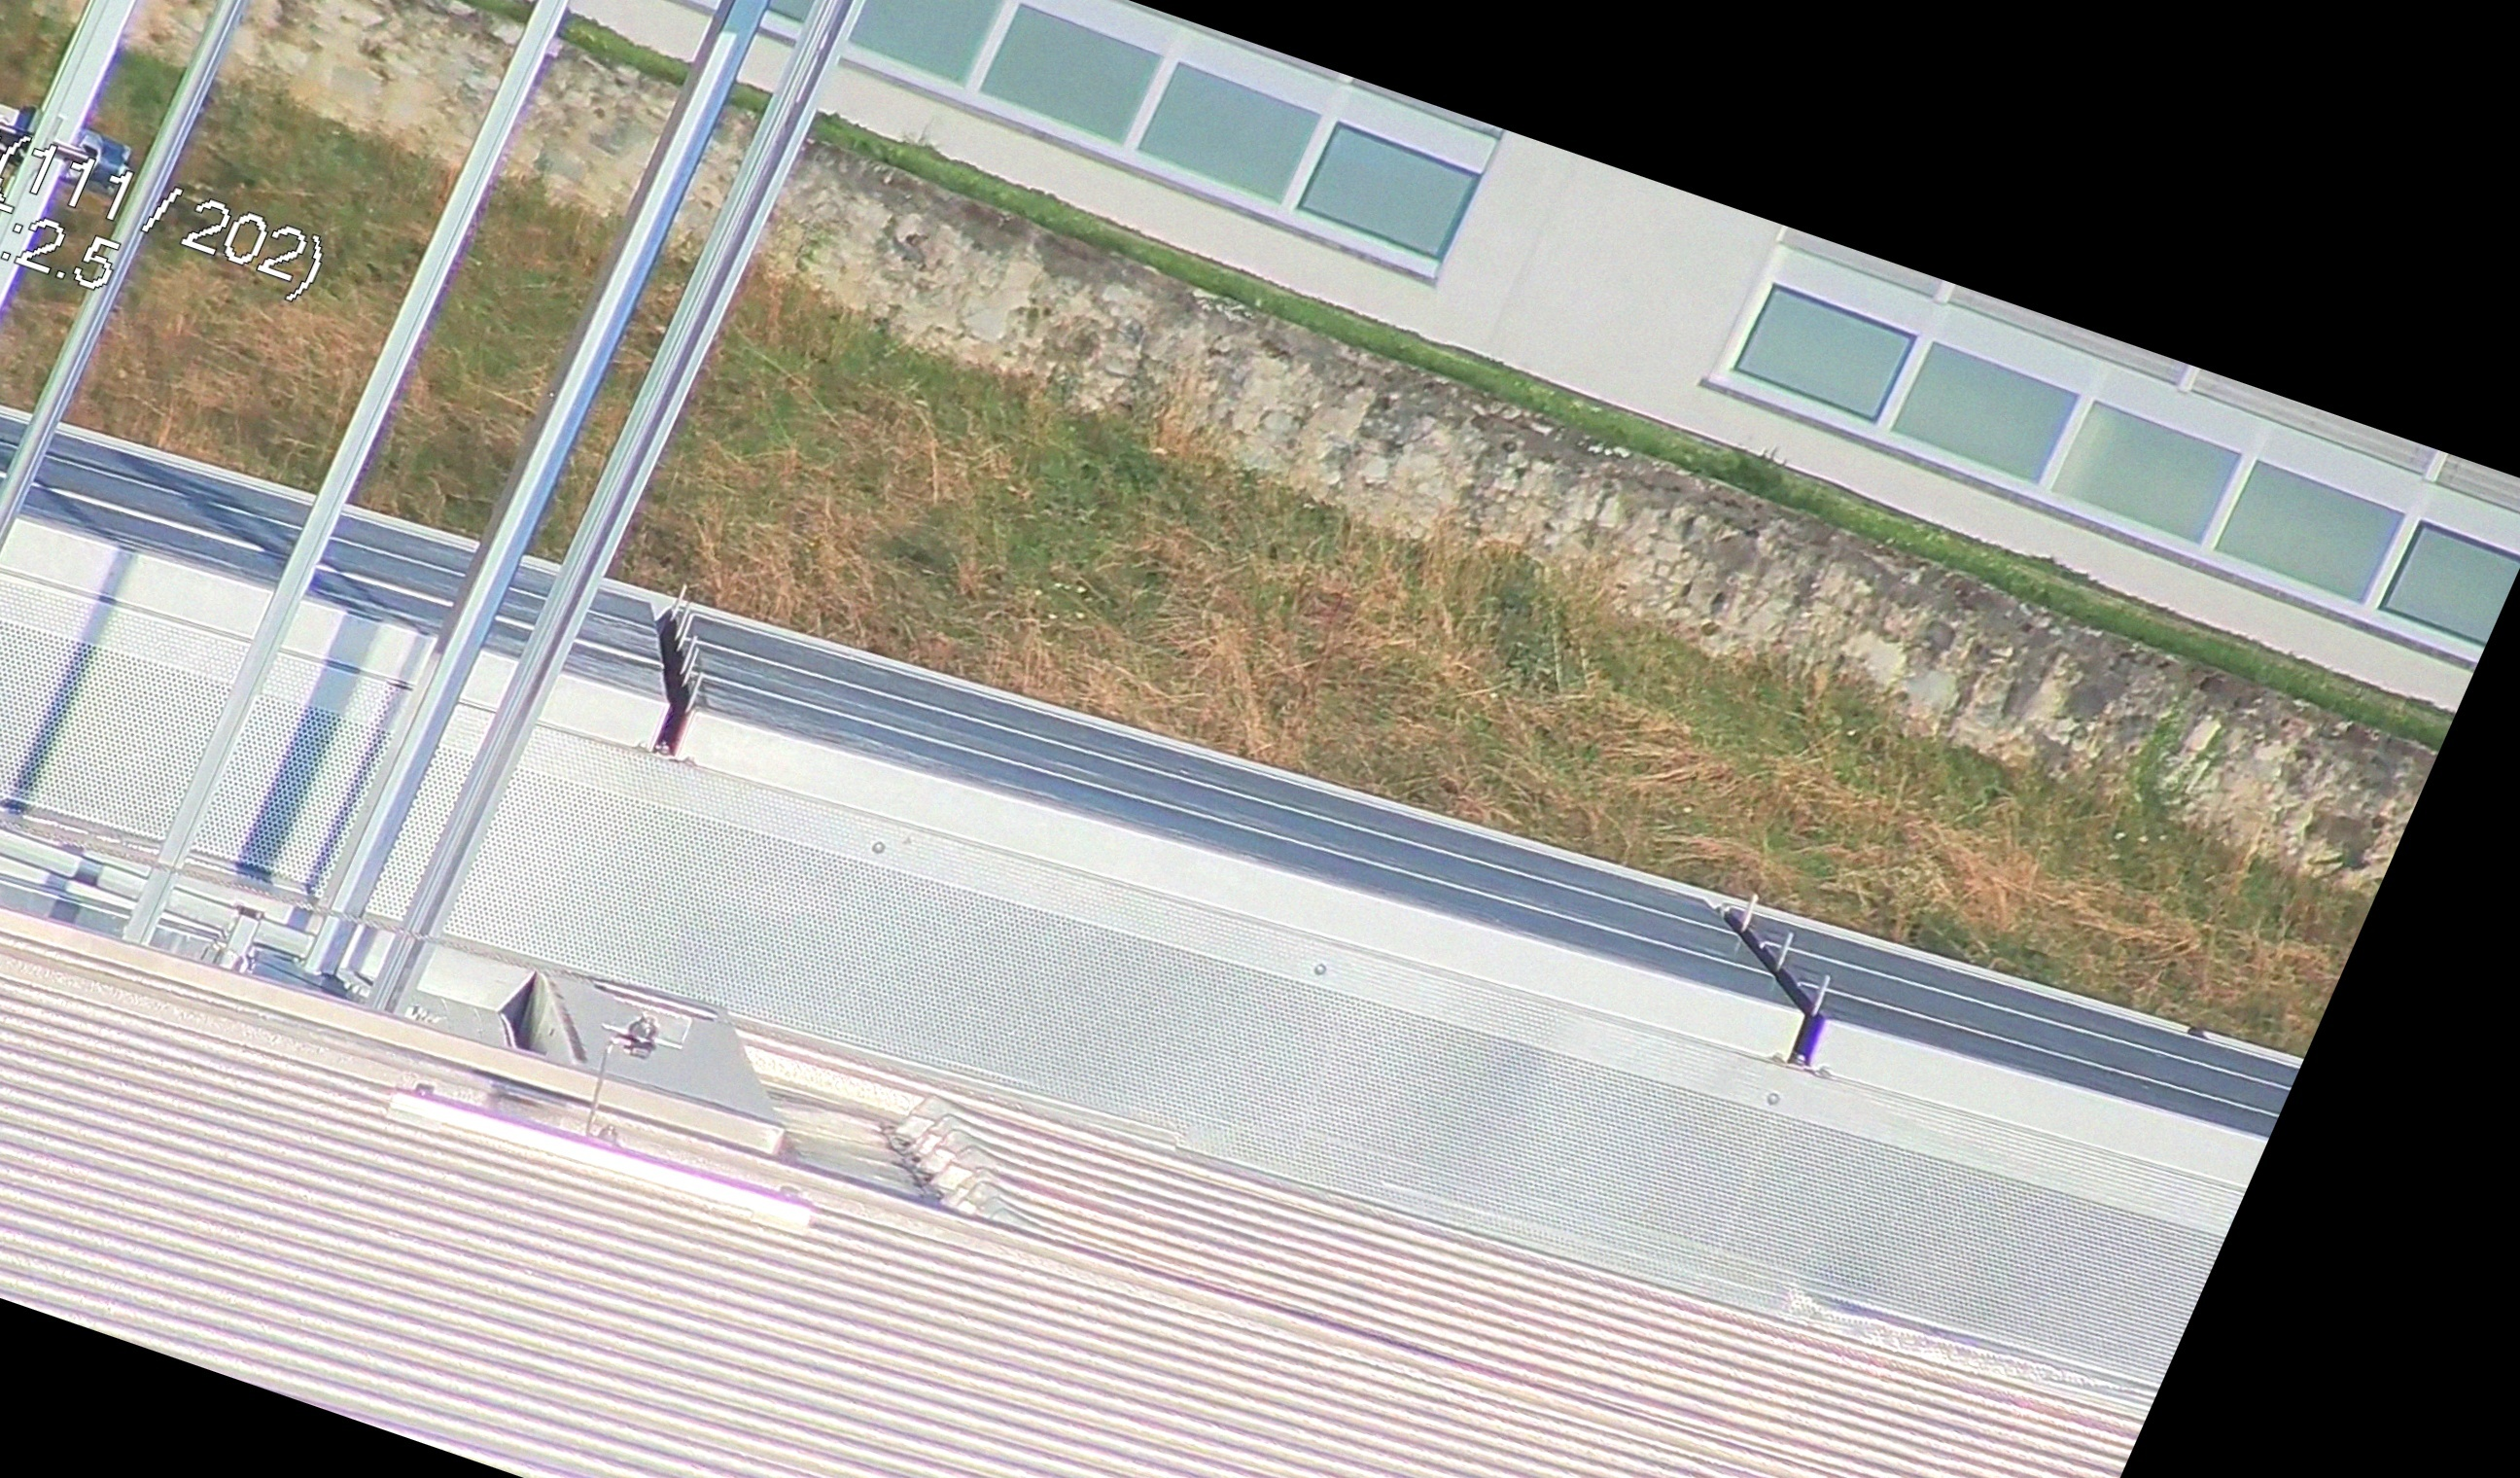Other: (575, 565, 767, 778)
